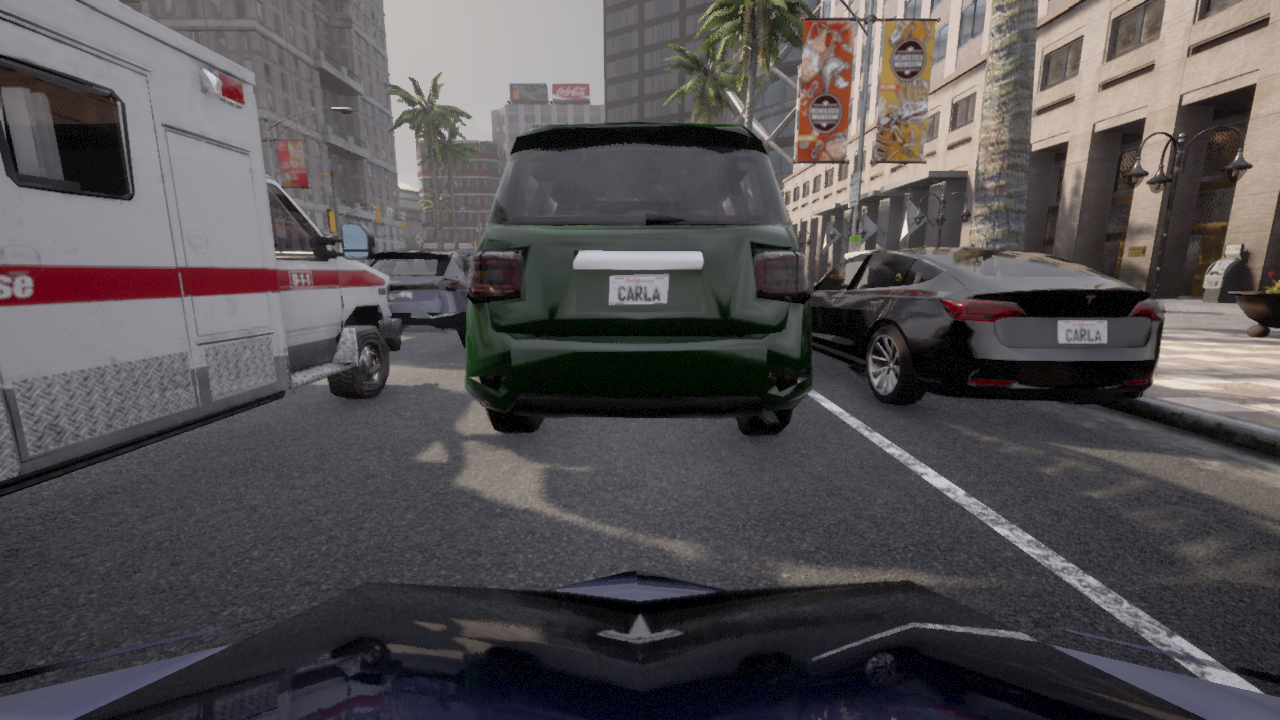cyclist: (0, 569, 1279, 719), (465, 122, 812, 435), (810, 247, 1164, 404), (369, 248, 474, 347)
